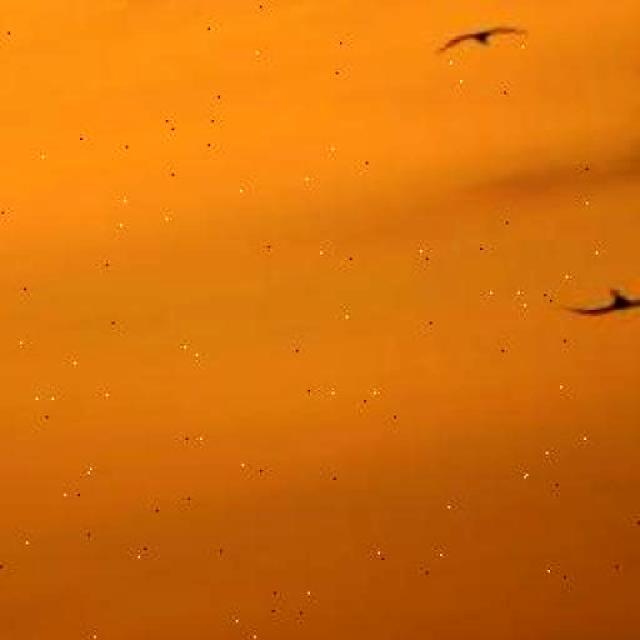airplane: (551, 275, 640, 321), (436, 21, 534, 58)
